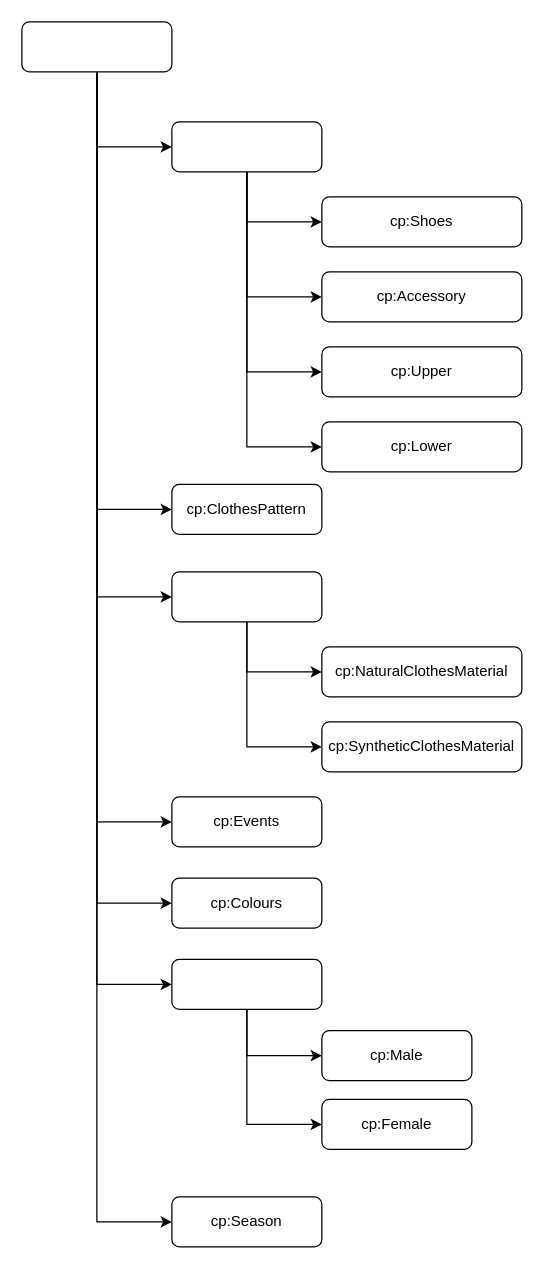
This 544x1269 diagram has some shape labels left out. Here are the shapes that lost their labels. From the top down, the centre of each, then its label:
pixel 96 46: owl:Thing
pixel 246 146: cp:Clothes
pixel 246 596: cp:ClothesMaterial
pixel 246 983: cp:Genders
